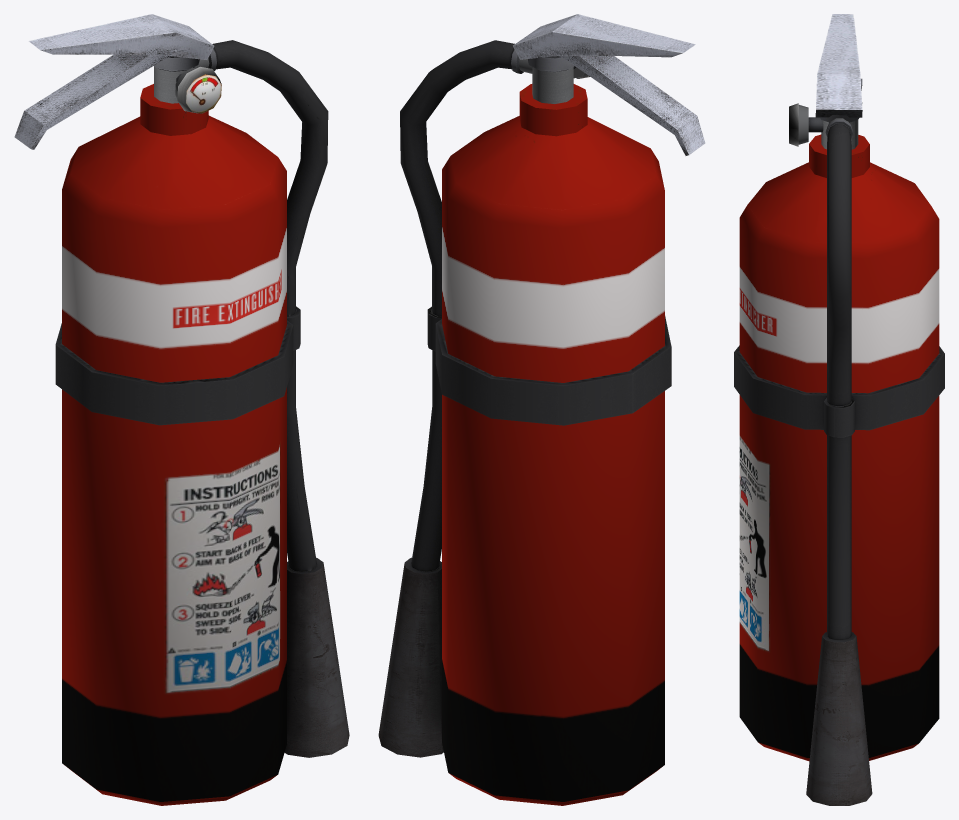
File: Extinguisher.fbx
The picture shows the model from 3 angles, left to right: view 1: azimuth 30°, elevation 25°; view 2: azimuth 150°, elevation 25°; view 3: azimuth 270°, elevation 25°; orthographic projection. The views are drawn at different scales.
Parts seen in each view (by area): view 1: Extinguisher; view 2: Extinguisher; view 3: Extinguisher.
Part boxes in pixels (x1=…): Extinguisher: x1=14, y1=14, x2=349, y2=805; Extinguisher: x1=378, y1=14, x2=705, y2=805; Extinguisher: x1=734, y1=14, x2=944, y2=805.
Size of the model in its own units: 25.71 by 59.07 by 17.
1 material, 1 textured.
